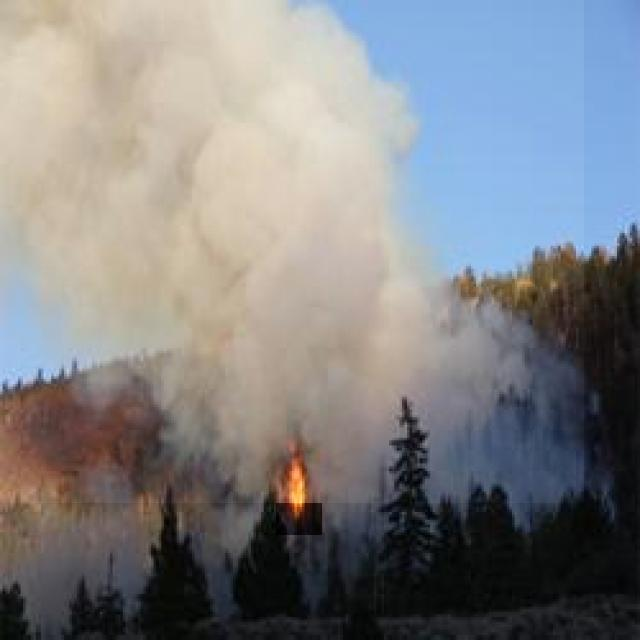Fire: (276, 450, 322, 535)
Smoke: (0, 0, 584, 503)
